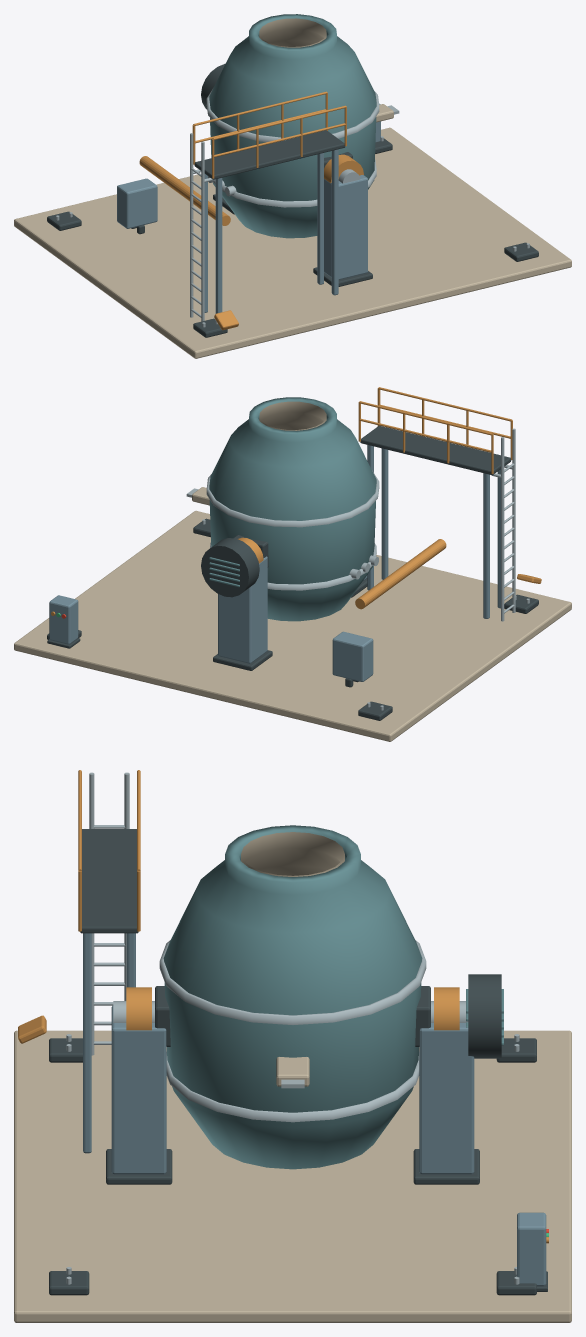
Rendered from STS-PLATE-03-lod1.glb.
3 renders of one model, top to bottom at view 1: azimuth 30°, elevation 25°; view 2: azimuth 150°, elevation 25°; view 3: azimuth 270°, elevation 25°, orthographic. The views are drawn at different scales.
Visible parts, largest first — view 1: foundation, refractory_vessel, far_pedestal, aod_service_deck, gas_valve_bank, refractory_lining, aod_service_support_1_1, aod_service_support_-1_1, argon_manifold, aod_service_support_1_-1, vessel_hoop_0.65, aod_service_ladder_rail_1 (+6 smaller); view 2: foundation, refractory_vessel, near_pedestal, aod_service_deck, tilt_gearbox, gas_valve_bank, refractory_lining, vessel_hoop_0.65, control_cabinet, argon_manifold, aod_service_support_1_1, aod_service_support_-1_-1 (+6 smaller); view 3: foundation, refractory_vessel, far_pedestal, near_pedestal, aod_service_deck, refractory_lining, vessel_hoop_0.65, tilt_gearbox, vessel_hoop_-0.7, control_cabinet, aod_service_support_1_1, far_bearing (+9 smaller).
Part boxes in pixels (x1=…): foundation: x1=14, y1=127, x2=571, y2=358; refractory_vessel: x1=209, y1=14, x2=376, y2=238; far_pedestal: x1=324, y1=175, x2=367, y2=279; aod_service_deck: x1=194, y1=130, x2=345, y2=179; gas_valve_bank: x1=117, y1=178, x2=157, y2=228; refractory_lining: x1=259, y1=18, x2=326, y2=47; aod_service_support_1_1: x1=331, y1=149, x2=338, y2=295; aod_service_support_-1_1: x1=215, y1=178, x2=222, y2=313; argon_manifold: x1=139, y1=156, x2=230, y2=225; aod_service_support_1_-1: x1=317, y1=153, x2=323, y2=284; vessel_hoop_0.65: x1=206, y1=89, x2=379, y2=142; aod_service_ladder_rail_1: x1=201, y1=141, x2=204, y2=321; foundation: x1=14, y1=510, x2=571, y2=741; refractory_vessel: x1=209, y1=397, x2=376, y2=621; near_pedestal: x1=218, y1=556, x2=267, y2=663; aod_service_deck: x1=360, y1=425, x2=511, y2=474; tilt_gearbox: x1=201, y1=538, x2=259, y2=597; gas_valve_bank: x1=332, y1=631, x2=373, y2=681; refractory_lining: x1=259, y1=401, x2=326, y2=430; vessel_hoop_0.65: x1=206, y1=470, x2=379, y2=527; control_cabinet: x1=49, y1=595, x2=78, y2=644; argon_manifold: x1=355, y1=539, x2=446, y2=609; aod_service_support_1_1: x1=381, y1=448, x2=388, y2=579; aod_service_support_-1_-1: x1=483, y1=473, x2=489, y2=618; foundation: x1=14, y1=1030, x2=571, y2=1322; refractory_vessel: x1=163, y1=825, x2=422, y2=1169; far_pedestal: x1=111, y1=1005, x2=166, y2=1174; near_pedestal: x1=419, y1=1023, x2=474, y2=1174; aod_service_deck: x1=80, y1=829, x2=138, y2=933; refractory_lining: x1=241, y1=832, x2=344, y2=876; vessel_hoop_0.65: x1=159, y1=940, x2=426, y2=1024; tilt_gearbox: x1=468, y1=974, x2=501, y2=1058; vessel_hoop_-0.7: x1=166, y1=1052, x2=419, y2=1122; control_cabinet: x1=517, y1=1212, x2=546, y2=1286; aod_service_support_1_1: x1=83, y1=933, x2=91, y2=1153; far_bearing: x1=126, y1=987, x2=151, y2=1030.
Bounding box in the file's own units: 9.1 × 4.97 × 7.6.
